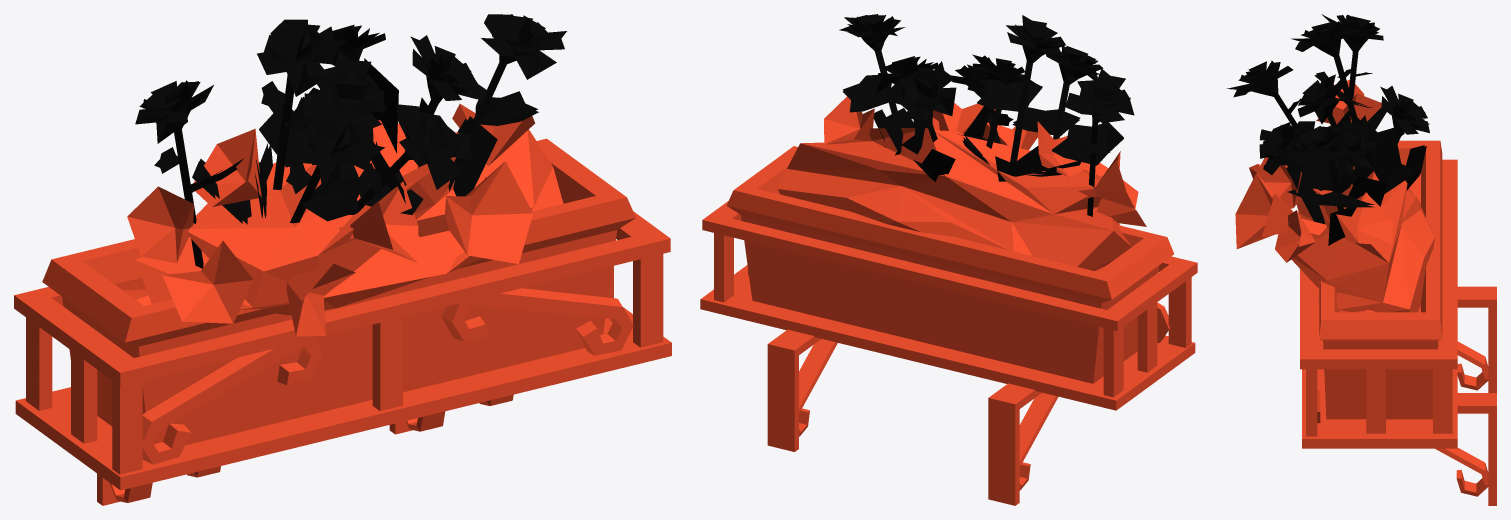
Rendered from SM_Pot_Window_City_C.fbx.
3 views of the same model, side by side, from view 1: azimuth 30°, elevation 25°; view 2: azimuth 150°, elevation 25°; view 3: azimuth 270°, elevation 25° (orthographic). The views are drawn at different scales.
Parts seen in each view (by area): view 1: SM_Pot_Window_City_C; view 2: SM_Pot_Window_City_C; view 3: SM_Pot_Window_City_C.
Part boxes in pixels (x1,y1,x2,y2): SM_Pot_Window_City_C: [14, 14, 671, 505]; SM_Pot_Window_City_C: [700, 14, 1197, 505]; SM_Pot_Window_City_C: [1226, 14, 1496, 505].
Bounding box in the file's own units: 1.22 × 1.12 × 0.6954.
